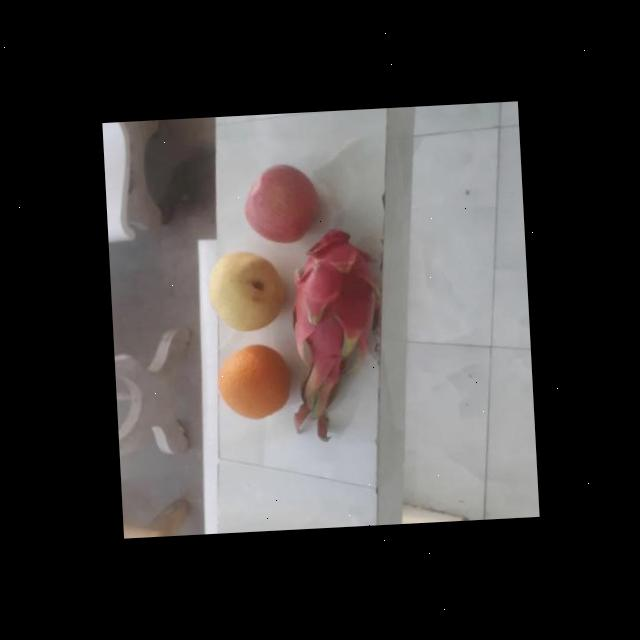apple: (240, 158, 318, 244)
orange: (215, 337, 293, 422)
pear: (205, 245, 288, 337)
pitaya: (286, 219, 386, 375)
